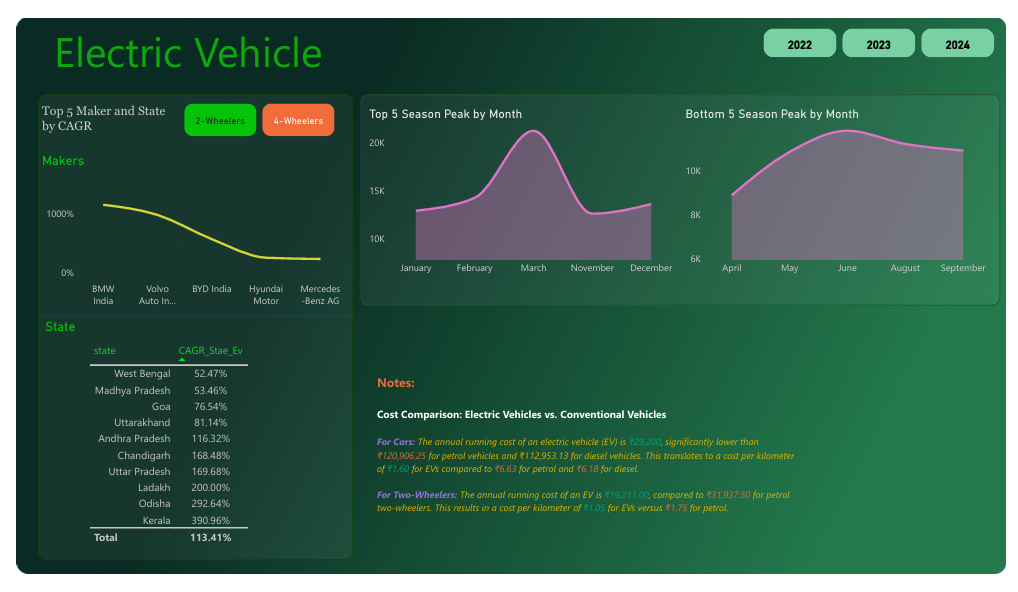

What the dashboard file says about the page in this screenshot:
{"tool":"powerbi","page":{"name":"Page 3","canvas":[1280,720],"ordinal":2},"visuals":[{"type":"shape","box":[28,97.9,406.7,602.5],"z":0},{"type":"textbox","box":[43,0,372.7,88.9],"z":1000},{"type":"advancedSlicerVisual","fields":{"Values":["dim_date.fiscal_year.Variation.Date Hierarchy.Year"]},"box":[791.4,27.1,311.4,47.1],"z":2000},{"type":"textbox","box":[27.9,168.3,78.8,29.8],"z":3000},{"type":"lineChart","title":"Maker","fields":{"Y":["Keymatrix.CAGR_MAKER_EV_%"],"Category":["electric_vehicle_sales_by_makers.maker"]},"box":[32.7,199,397.1,180.8],"z":4000},{"type":"tableEx","title":"State","fields":{"Values":["electric_vehicle_sales_by_state.state","Keymatrix.CAGR_Stae_Ev"]},"box":[89.1,412.7,266.4,279.1],"z":5000},{"type":"advancedSlicerVisual","fields":{"Values":["Vehicle_Category_Table.Vehicle Category"]},"box":[211.8,104.9,203.8,52],"z":6000},{"type":"textbox","box":[28,104.9,183.9,52],"z":7000},{"type":"areaChart","title":"Top 5 Season Peak by Month ","fields":{"Category":["dim_date.date.Variation.Date Hierarchy.Month"],"Y":["Keymatrix.Total_EV_Sales_Maker"]},"box":[450.9,112.7,409.1,227.3],"z":8000},{"type":"textbox","box":[32.4,383.1,62.9,30.5],"z":9000},{"type":"shape","box":[27.9,379.8,406.7,8.7],"z":10000},{"type":"areaChart","title":"Bottom 5 Season Peak by Month","fields":{"Category":["dim_date.date.Variation.Date Hierarchy.Month"],"Y":["Keymatrix.Total_EV_Sales_Maker"]},"box":[860,112.7,405.5,227.3],"z":11000},{"type":"shape","box":[444.5,98.2,827.3,272.7],"z":12000},{"type":"textbox","box":[460.9,497.3,412.7,35.5],"z":13000},{"type":"textbox","box":[460.9,532.7,559.1,117.3],"z":14000},{"type":"textbox","box":[460.9,455.5,73.6,35.5],"z":15000},{"type":"actionButton","box":[1221.4,7.1,50,44.3],"z":16000},{"type":"actionButton","box":[1171.4,7.1,50,44.3],"z":17000}]}

Visuals, with their boxes on the page's 1280x720 design canvas (x1, y1, x2, y2). These are canvas units, not pixel positions in the 1018x592 screenshot, which may show the page scaled, cropped or inside an application window:
shape: l=28, t=98, r=435, b=700
textbox: l=43, t=0, r=416, b=89
advancedSlicerVisual - dim_date.fiscal_year.Variation.Date Hierarchy.Year: l=791, t=27, r=1103, b=74
textbox: l=28, t=168, r=107, b=198
"Maker" lineChart: l=33, t=199, r=430, b=380
"State" tableEx: l=89, t=413, r=356, b=692
advancedSlicerVisual - Vehicle_Category_Table.Vehicle Category: l=212, t=105, r=416, b=157
textbox: l=28, t=105, r=212, b=157
"Top 5 Season Peak by Month " areaChart: l=451, t=113, r=860, b=340
textbox: l=32, t=383, r=95, b=414
shape: l=28, t=380, r=435, b=388
"Bottom 5 Season Peak by Month" areaChart: l=860, t=113, r=1266, b=340
shape: l=444, t=98, r=1272, b=371
textbox: l=461, t=497, r=874, b=533
textbox: l=461, t=533, r=1020, b=650
textbox: l=461, t=456, r=534, b=491
actionButton: l=1221, t=7, r=1271, b=51
actionButton: l=1171, t=7, r=1221, b=51
